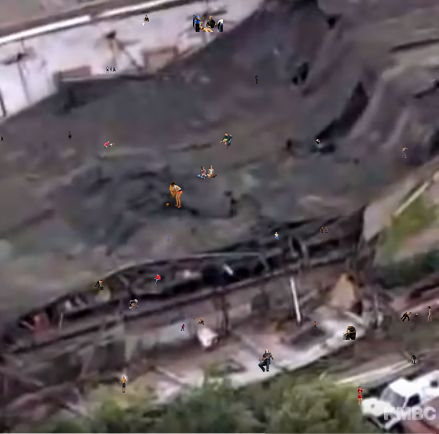Human: (219, 132, 251, 149), (400, 306, 432, 323), (163, 181, 183, 208), (105, 297, 139, 312), (193, 15, 223, 32), (258, 349, 274, 372), (197, 165, 217, 179), (337, 326, 356, 340), (356, 386, 365, 405), (119, 376, 128, 393), (401, 146, 410, 158), (193, 316, 204, 325), (95, 280, 104, 290), (154, 274, 161, 286), (142, 15, 149, 26), (106, 66, 116, 73), (104, 141, 114, 148), (273, 232, 279, 242), (320, 226, 328, 233), (411, 355, 416, 365), (181, 324, 187, 331), (312, 321, 317, 329), (68, 131, 72, 140), (316, 139, 321, 145), (255, 75, 258, 84), (167, 236, 170, 242), (1, 136, 4, 141), (432, 78, 435, 83), (380, 356, 382, 363), (425, 421, 427, 426)
